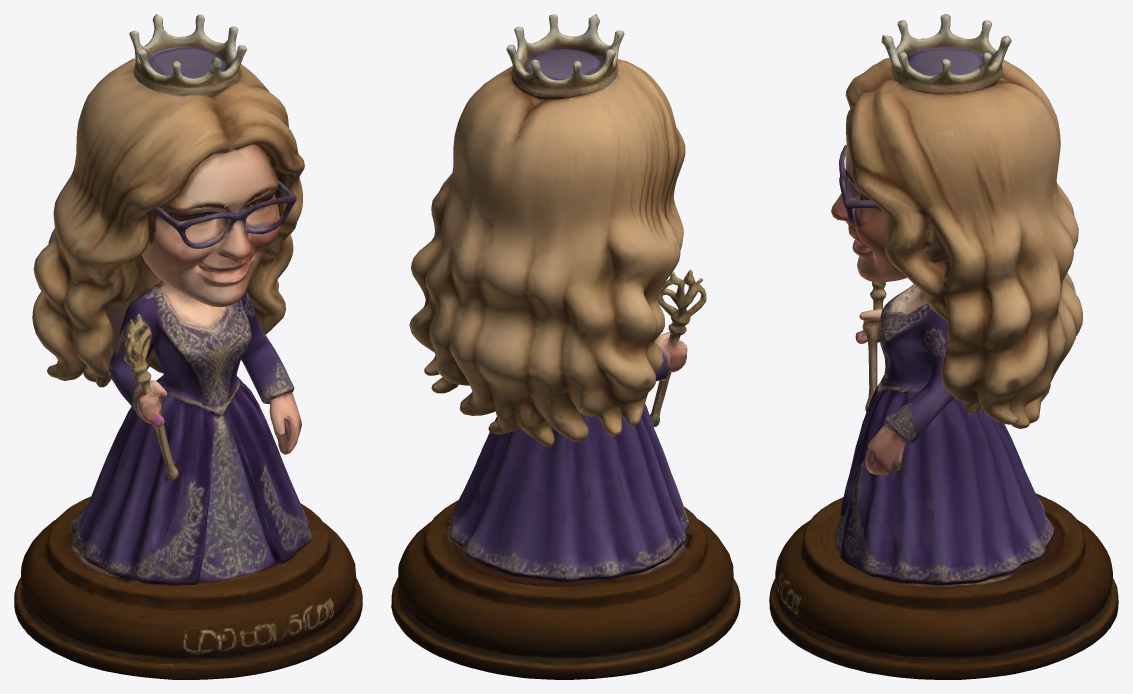
The model's file is queen-kate-50k.glb.
3 renders of one model, left to right at view 1: azimuth 30°, elevation 25°; view 2: azimuth 150°, elevation 25°; view 3: azimuth 270°, elevation 25°, orthographic.
Visible parts, largest first — view 1: world; view 2: world; view 3: world.
Boxes of the visible parts, x1,y1,x2,y2 form: world: (14,14,362,679); world: (391,14,740,679); world: (769,14,1118,679).
Bounding box in the file's own units: 0.5535 × 1 × 0.5538.
Materials: 1 (1 with a texture image).
